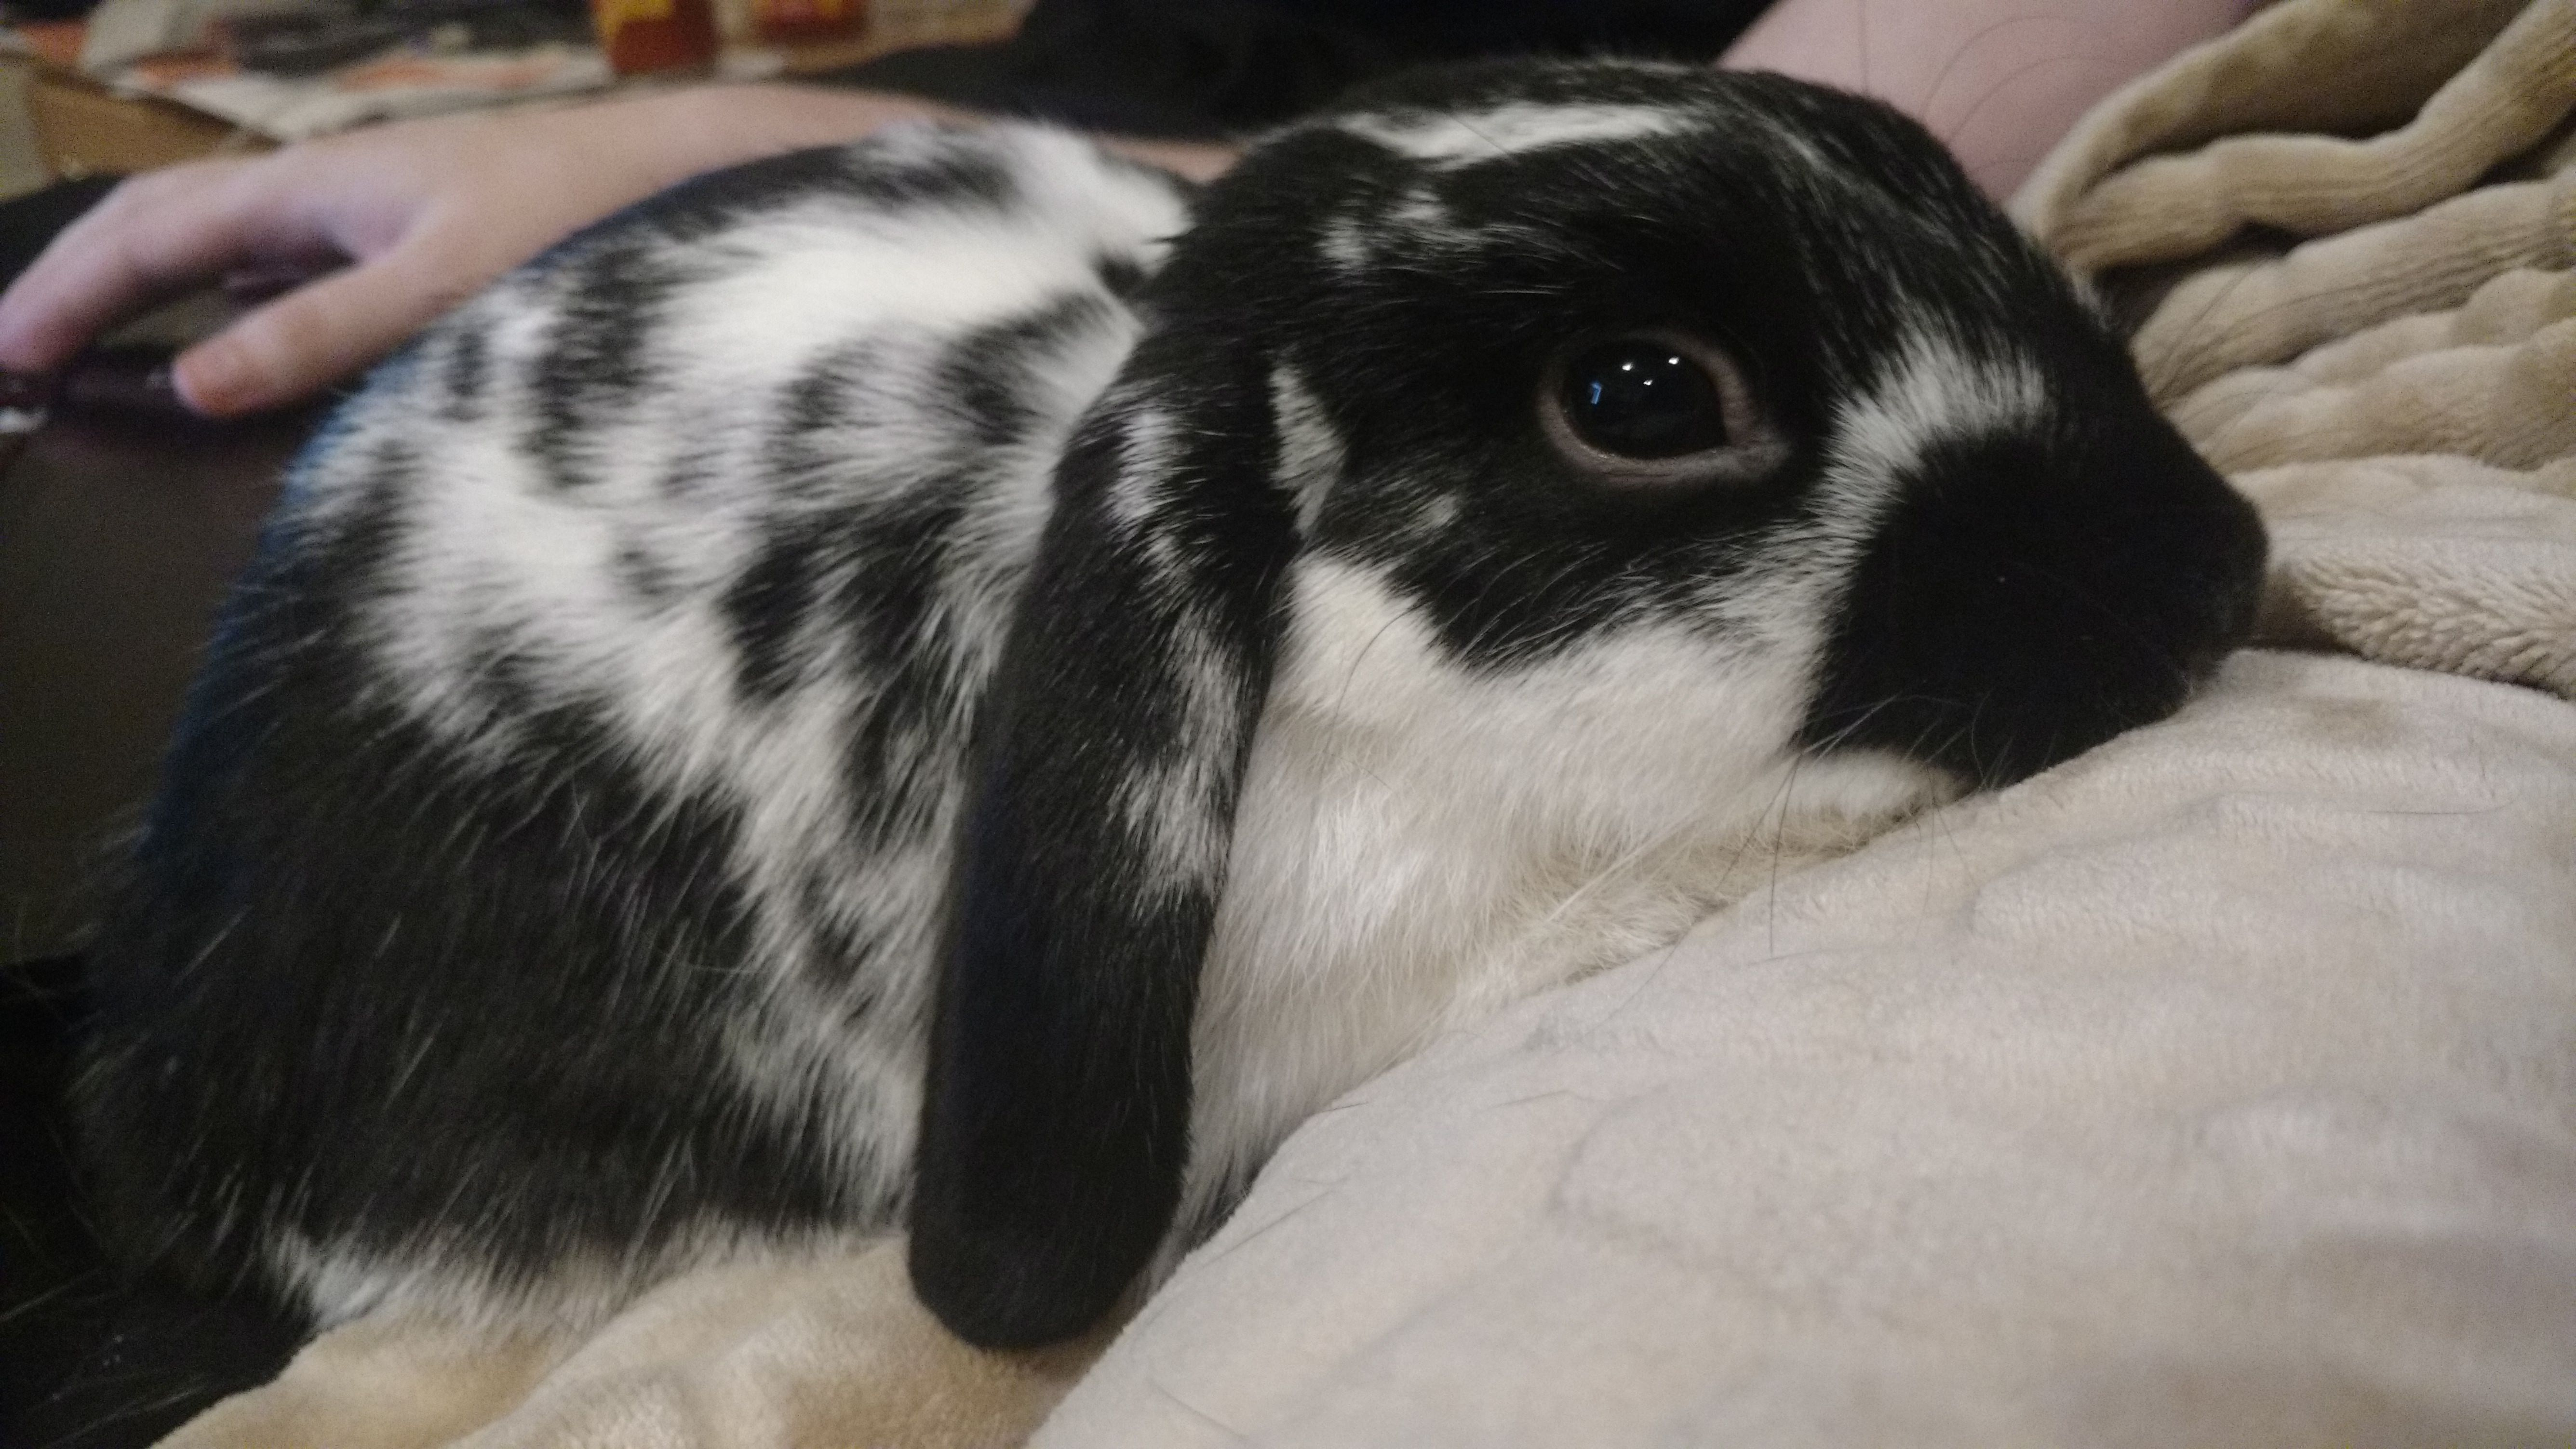bunny: (161, 44, 2342, 1345)
